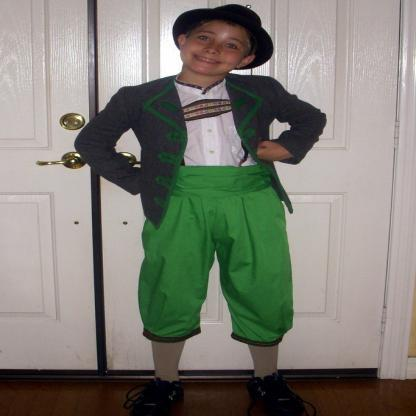door: (101, 3, 407, 379), (0, 0, 100, 378)
hinged: (389, 116, 404, 150), (377, 304, 392, 336)
lever: (34, 156, 76, 170)
